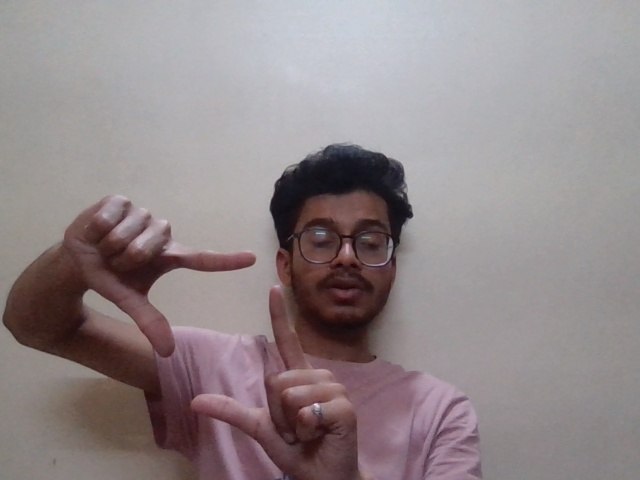video: (50, 181, 365, 452)
